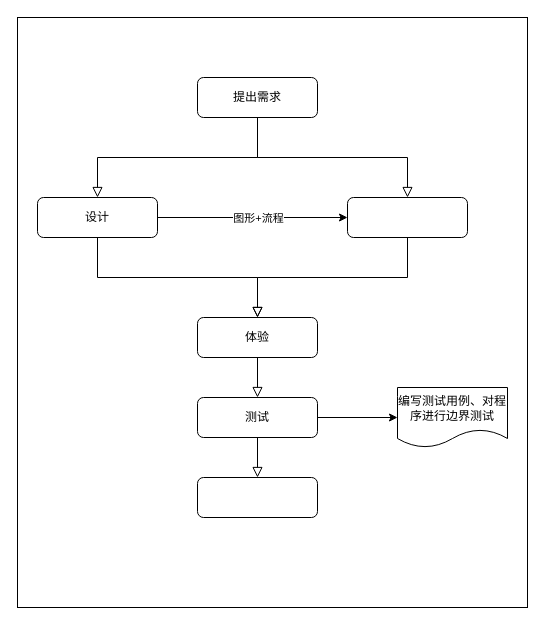
Image size: 545x625. Some labels were removed from this diagram. Each missing label, with the centre of its shape:
"发布" belongs at [257,497].
"开发" belongs at [407,217].
